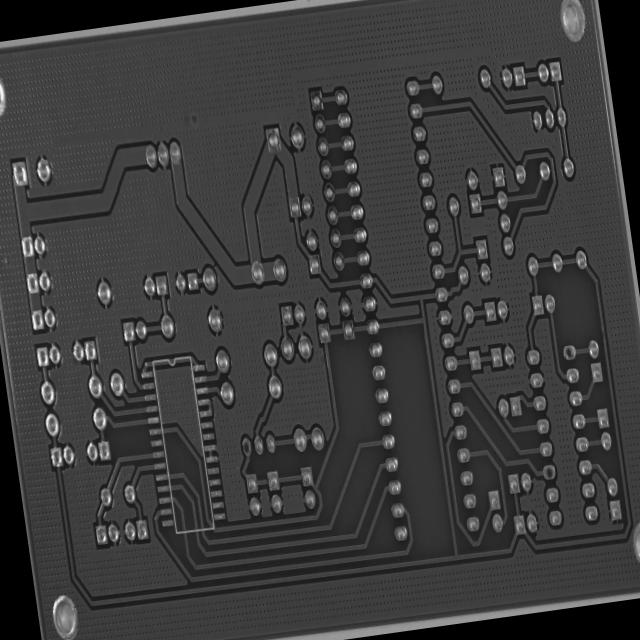missing_hole: (560, 340, 578, 365), (541, 460, 558, 484), (239, 433, 254, 460)
